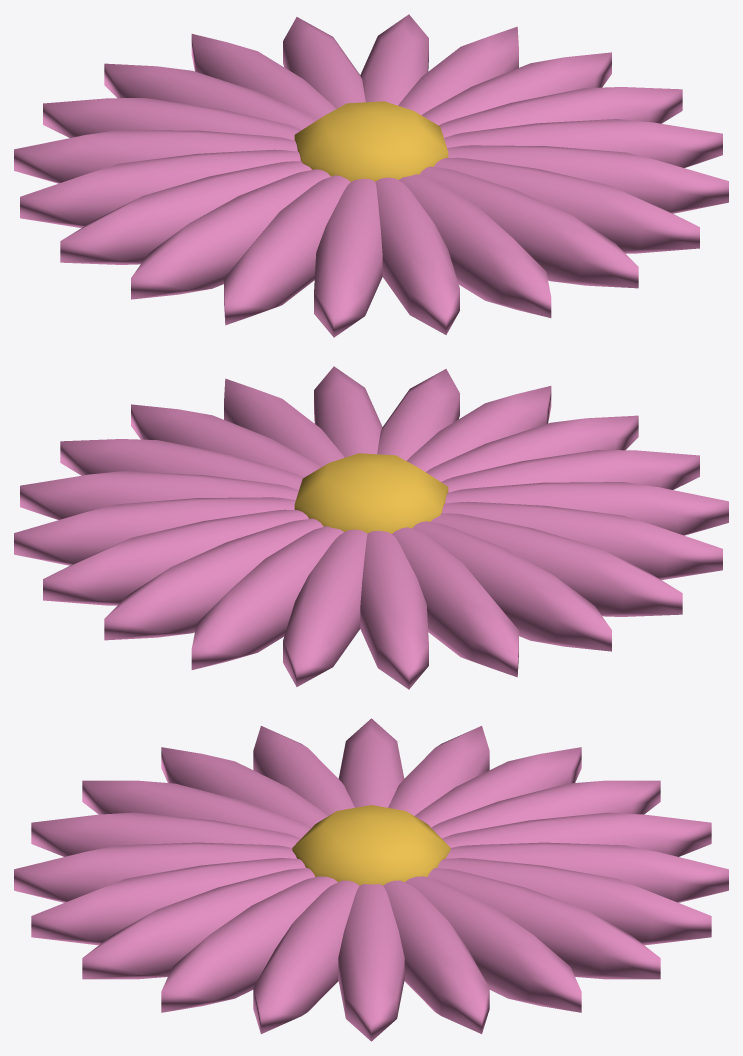
The model's file is flower-daisy.glb.
The picture shows the model from 3 angles, top to bottom: view 1: azimuth 30°, elevation 25°; view 2: azimuth 150°, elevation 25°; view 3: azimuth 270°, elevation 25°; orthographic projection.
Visible parts, largest first — view 1: tint-surface, surface; view 2: tint-surface, surface; view 3: tint-surface, surface.
Part boxes in pixels (x1,y1,x2,y2): tint-surface: [14, 14, 728, 337]; surface: [294, 101, 448, 181]; tint-surface: [14, 366, 728, 689]; surface: [294, 453, 448, 533]; tint-surface: [14, 718, 728, 1041]; surface: [292, 805, 450, 885].
Size of the model in its own units: 1.03 by 0.155 by 1.03.
